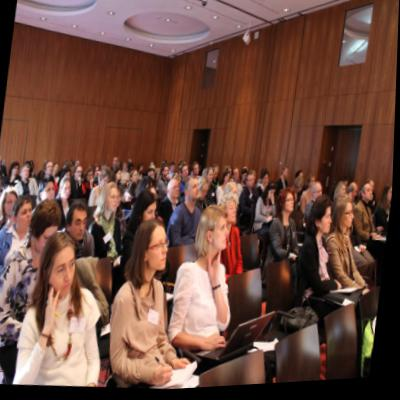netural: (148, 225, 173, 275), (211, 218, 232, 252), (71, 210, 90, 244), (17, 197, 35, 230), (142, 197, 159, 226), (227, 201, 242, 228), (321, 209, 334, 240), (343, 208, 357, 233), (43, 182, 58, 204), (188, 180, 202, 203), (108, 190, 121, 214), (5, 193, 18, 216), (285, 195, 296, 217), (169, 182, 181, 202), (63, 182, 73, 200), (364, 189, 374, 207), (314, 186, 324, 204), (47, 160, 55, 177), (23, 166, 31, 179), (269, 190, 277, 202)
sad: (51, 250, 79, 298)
